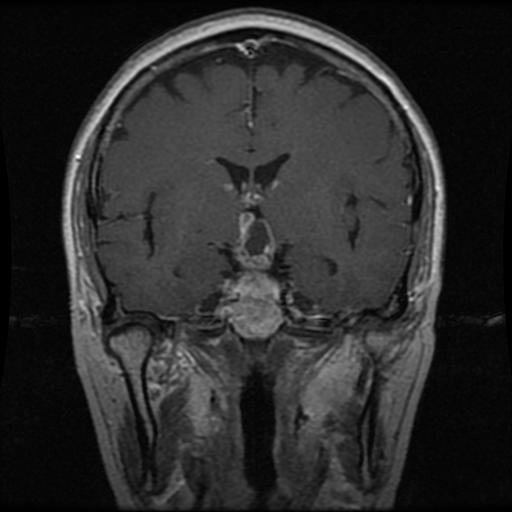Pituirity_tumour: (226, 213, 277, 300)
